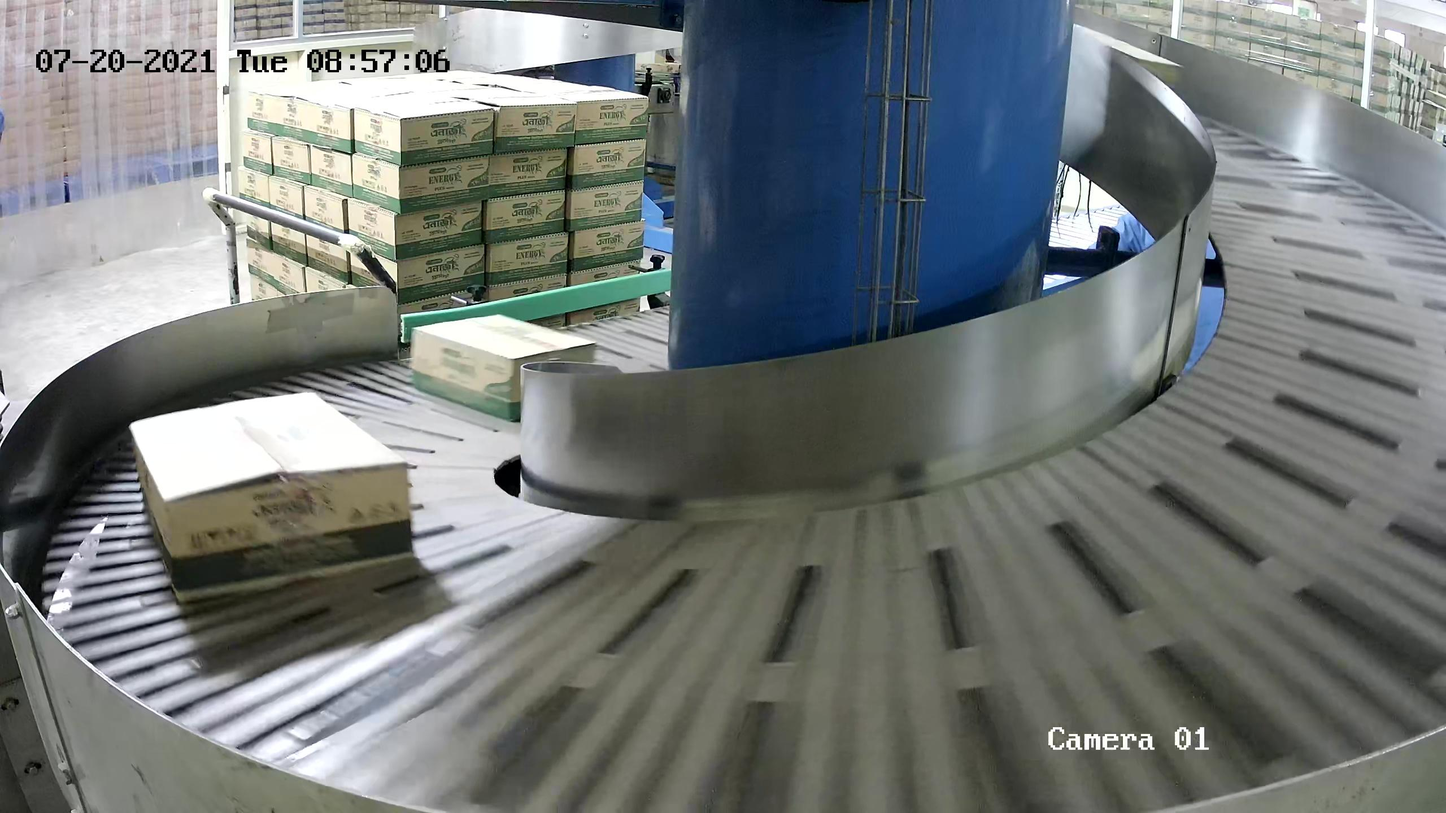Box: (128, 381, 419, 601), (410, 313, 598, 426)
